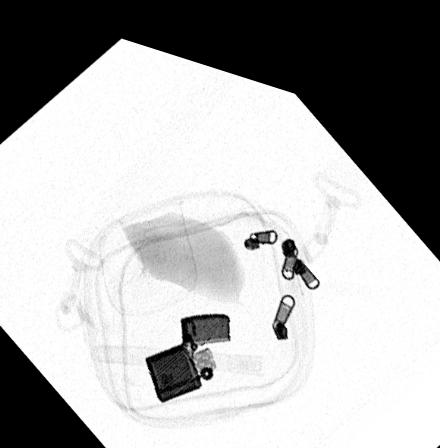Lighter: (144, 299, 231, 393)
